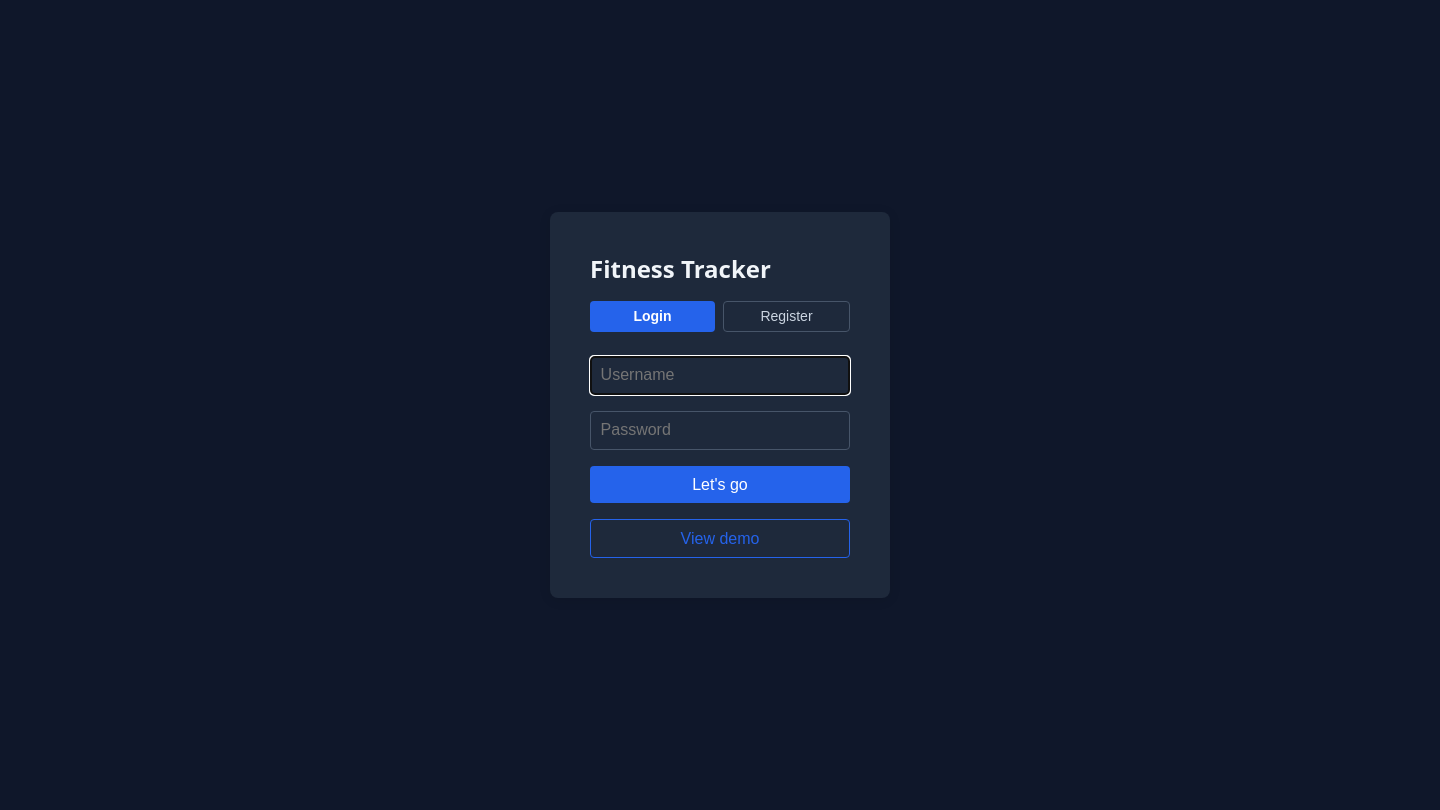
Test case: UserPicker — login › shows a credentials message on 401
This screenshot has width=1440, height=810.
Type "alice" into the field with placeholder "Username" at (720,375), box [590,356,850,395]
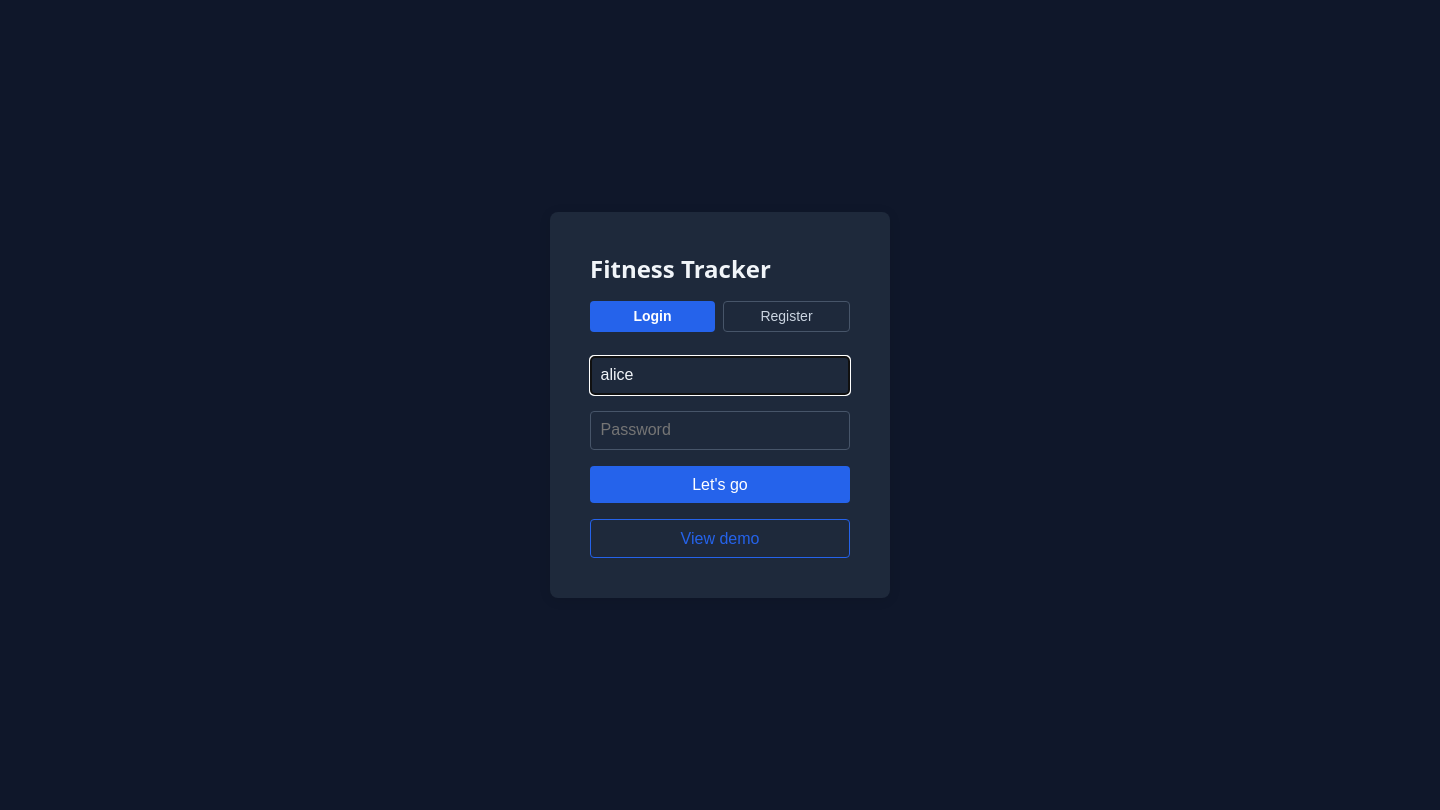
Type "password123" into the password field with placeholder "Password" at (720,430), box [590,411,850,450]
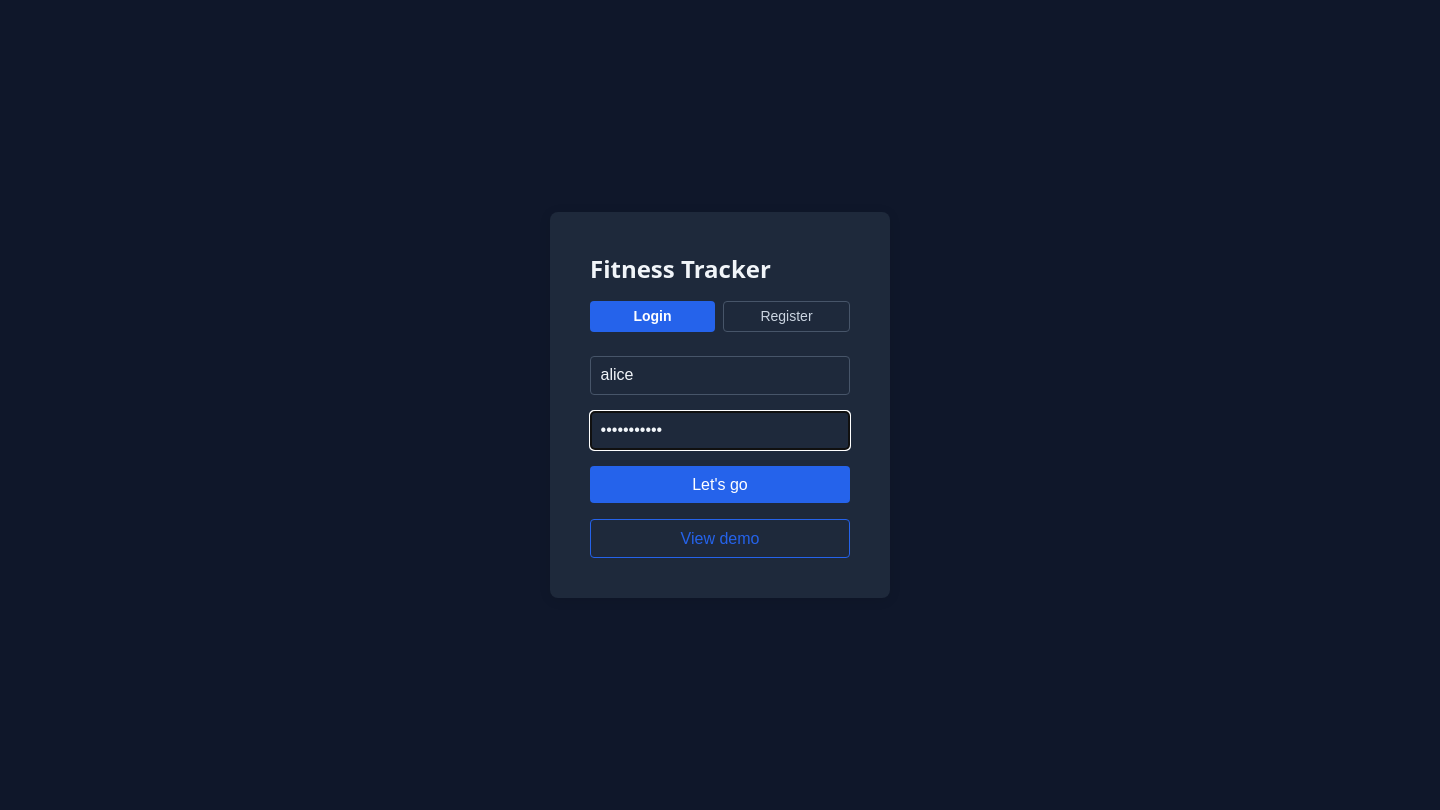
Click the button "Let's go" at (720,484), box [590,466,850,503]
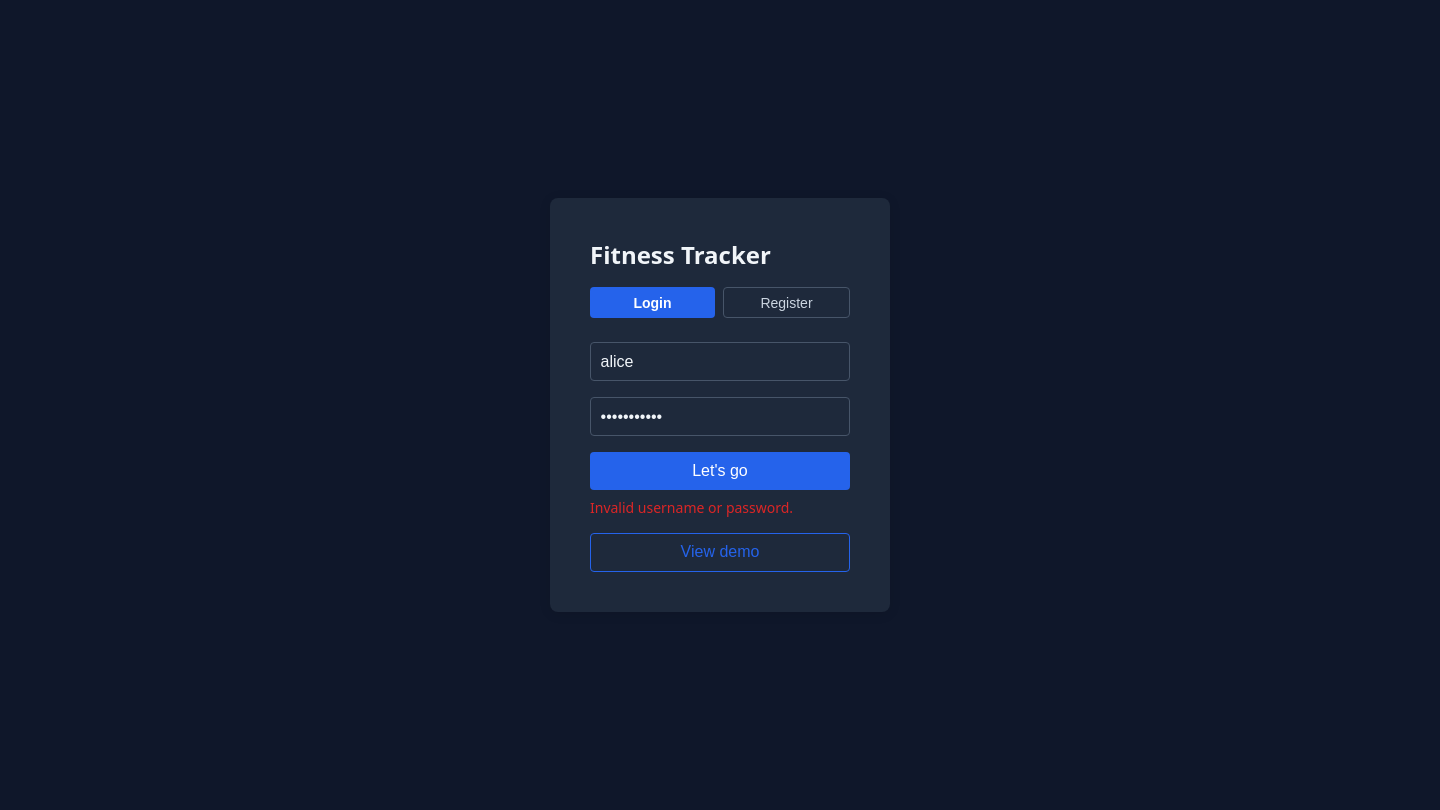
Now the text "Invalid username or password." is shown, box [590,498,793,517]
